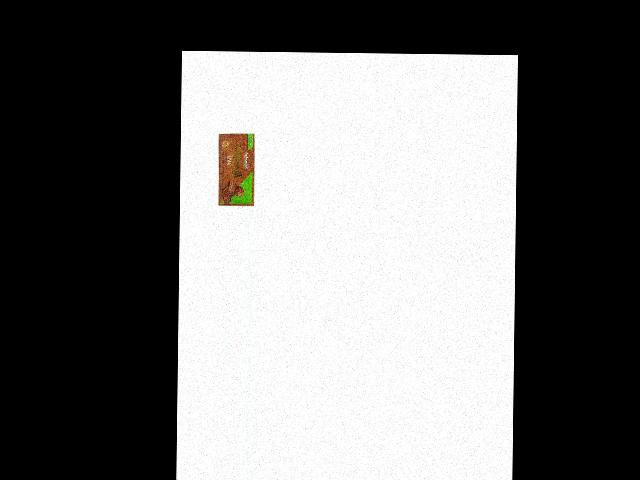chocolate: (214, 130, 256, 207)
